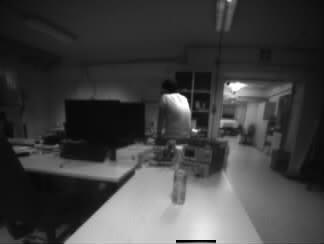Tin can: (173, 170, 186, 204)
